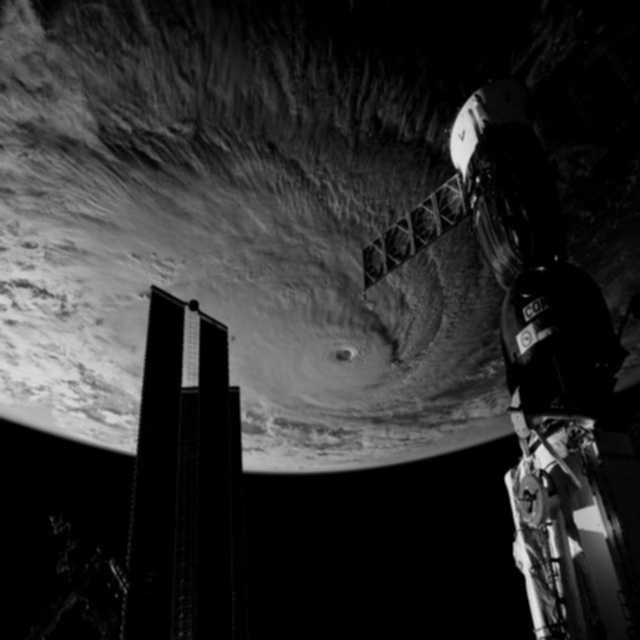satellite: (350, 48, 640, 640), (18, 261, 266, 640)
